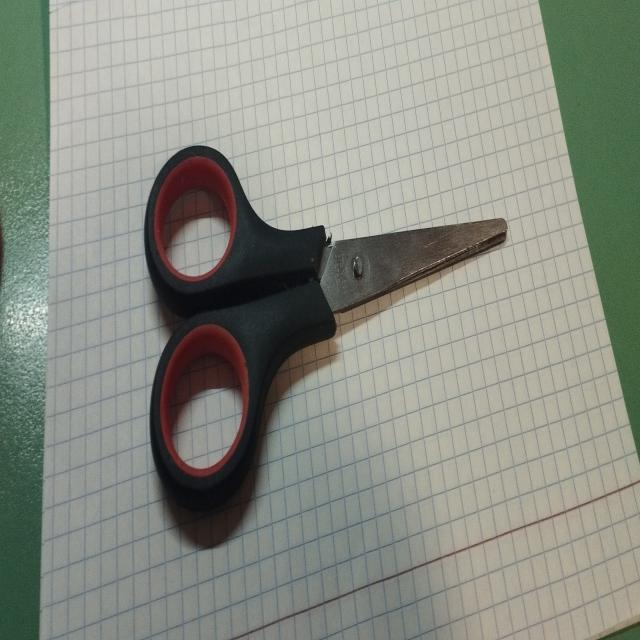tesoura: (142, 134, 512, 524)
